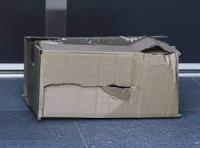damaged package: (40, 79, 138, 100), (136, 41, 173, 59)
undamaged: (19, 34, 181, 119)
